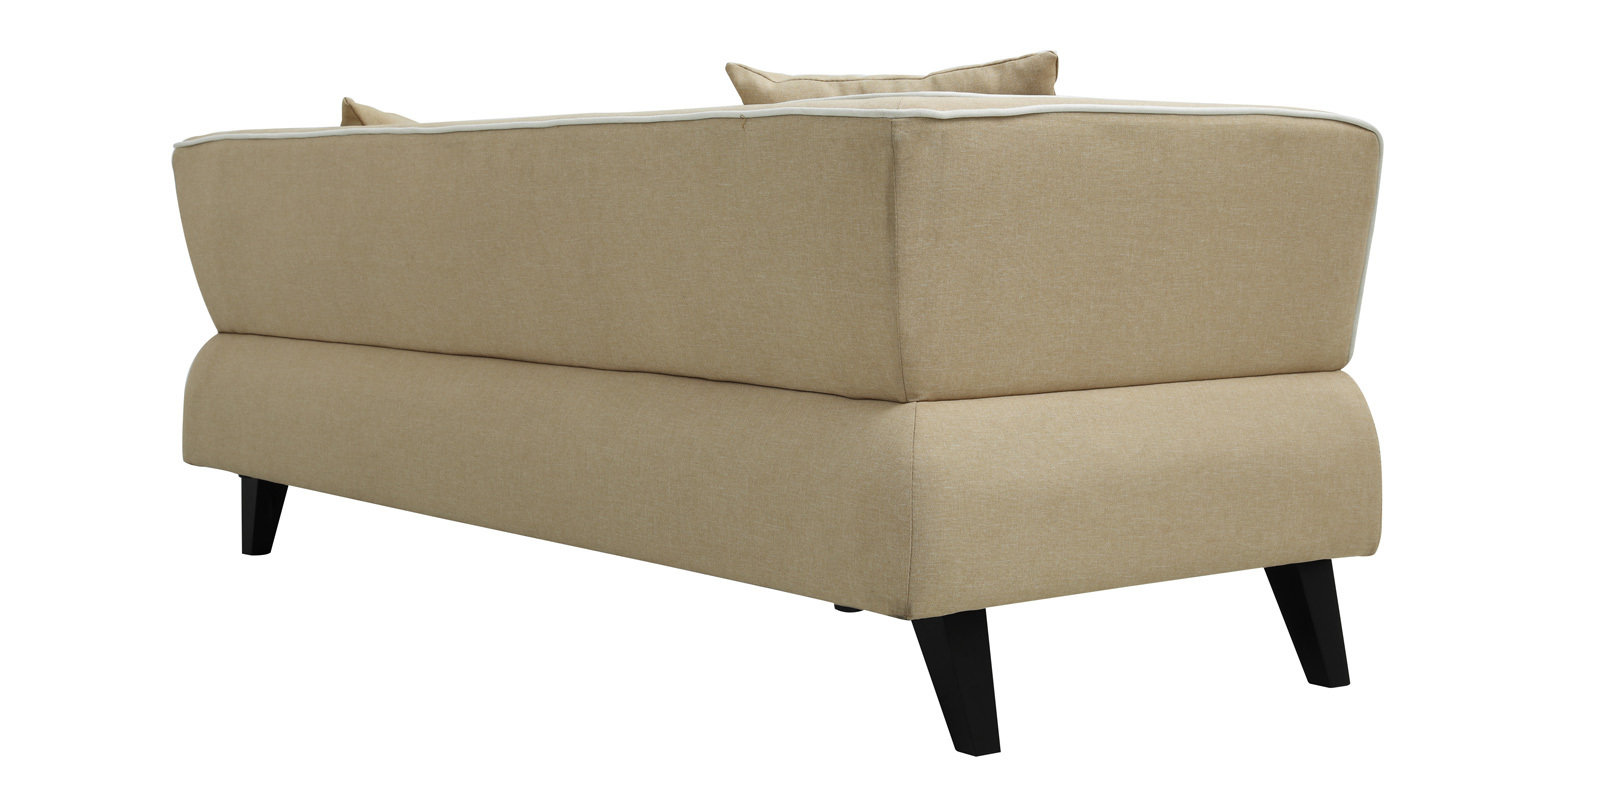Dime Three Seater Sofa in Beige Colour by Zofa: (126, 39, 1403, 774)
